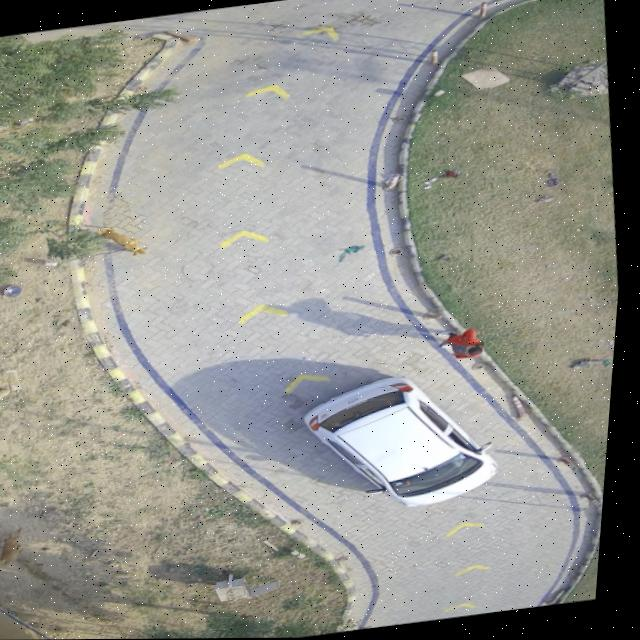car: (308, 377, 504, 507)
